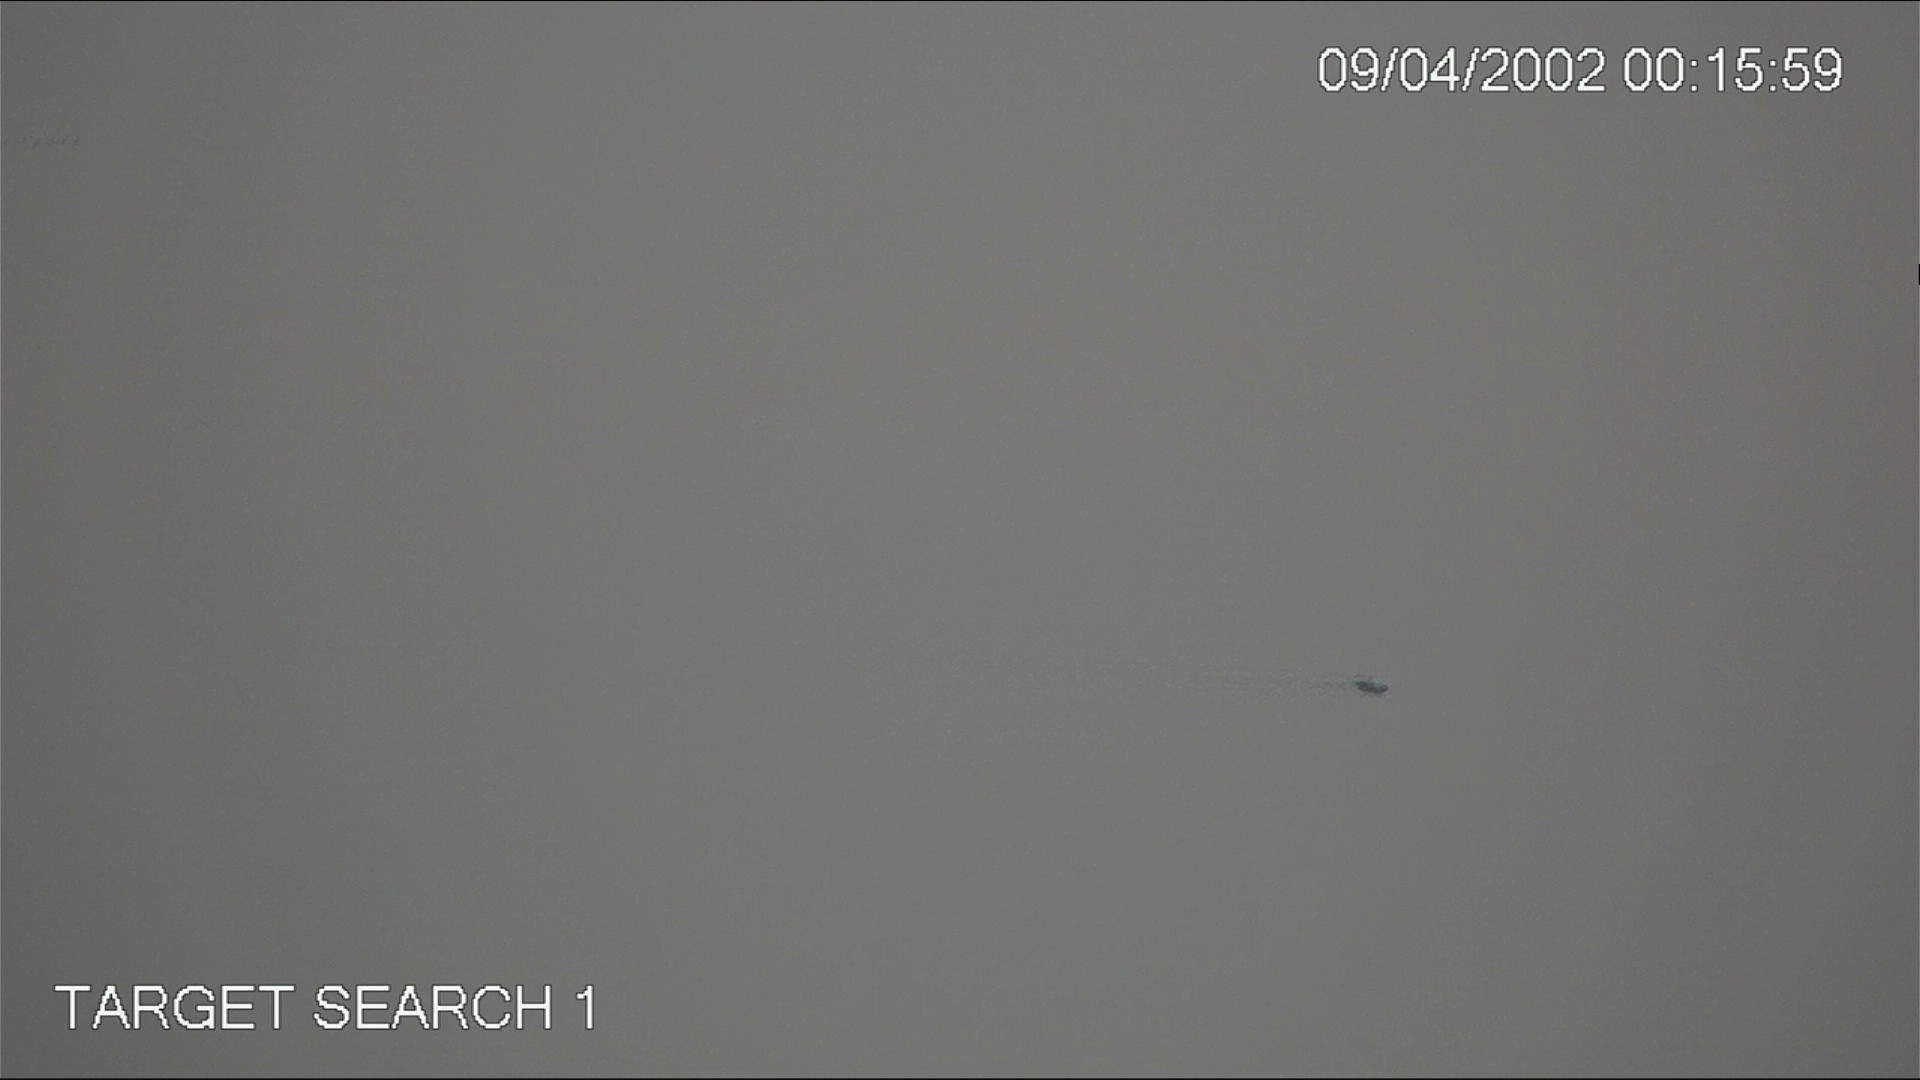SU_30: (1354, 676, 1390, 698)
